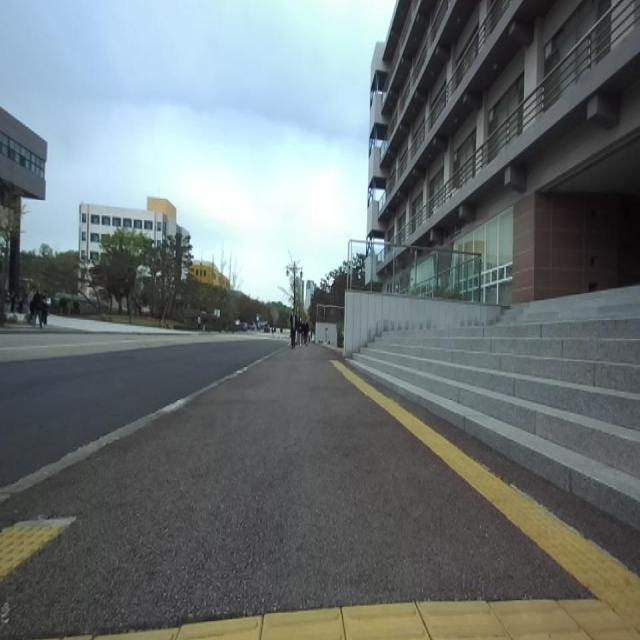sidewalk: (0, 346, 640, 640), (0, 349, 281, 503)
